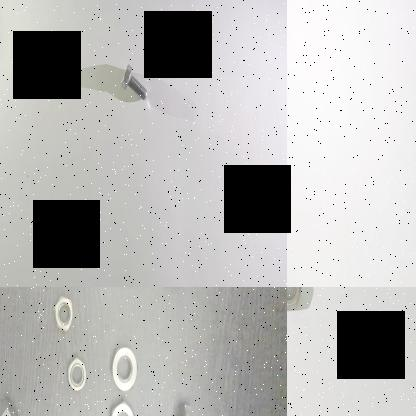Bolts: (116, 59, 152, 109)
NUTS: (104, 343, 140, 393), (62, 348, 88, 394), (51, 290, 76, 335), (165, 398, 201, 416), (108, 395, 136, 416), (287, 287, 303, 317), (0, 391, 19, 416)
